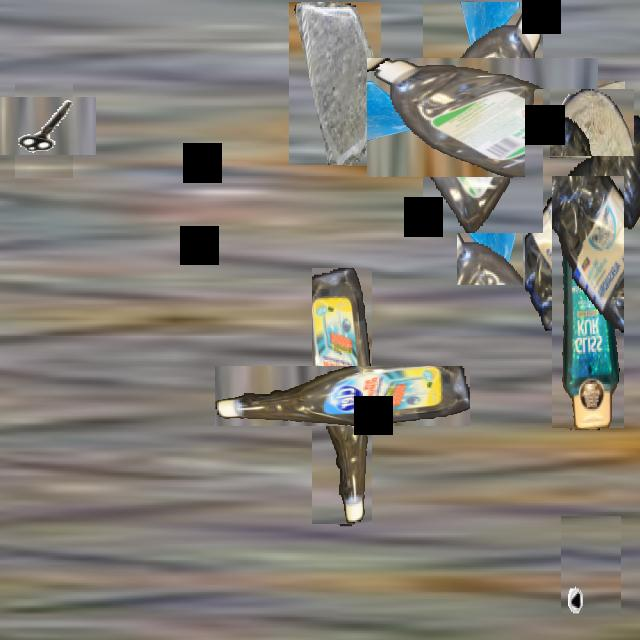glass: (289, 2, 381, 165), (457, 167, 523, 285)
metal: (4, 86, 84, 166), (561, 516, 621, 622)
plastic: (395, 30, 571, 205), (525, 89, 640, 338), (263, 318, 421, 476), (552, 176, 624, 428)
wood: (554, 85, 630, 160)
